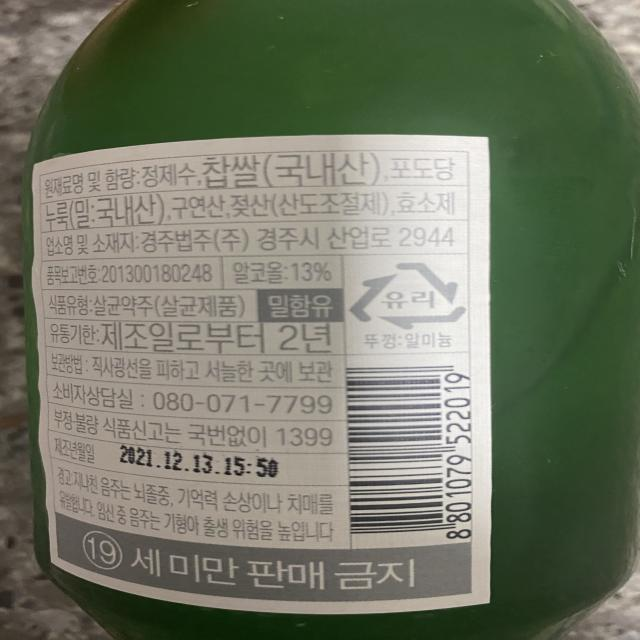Glass: (345, 256, 472, 336)
